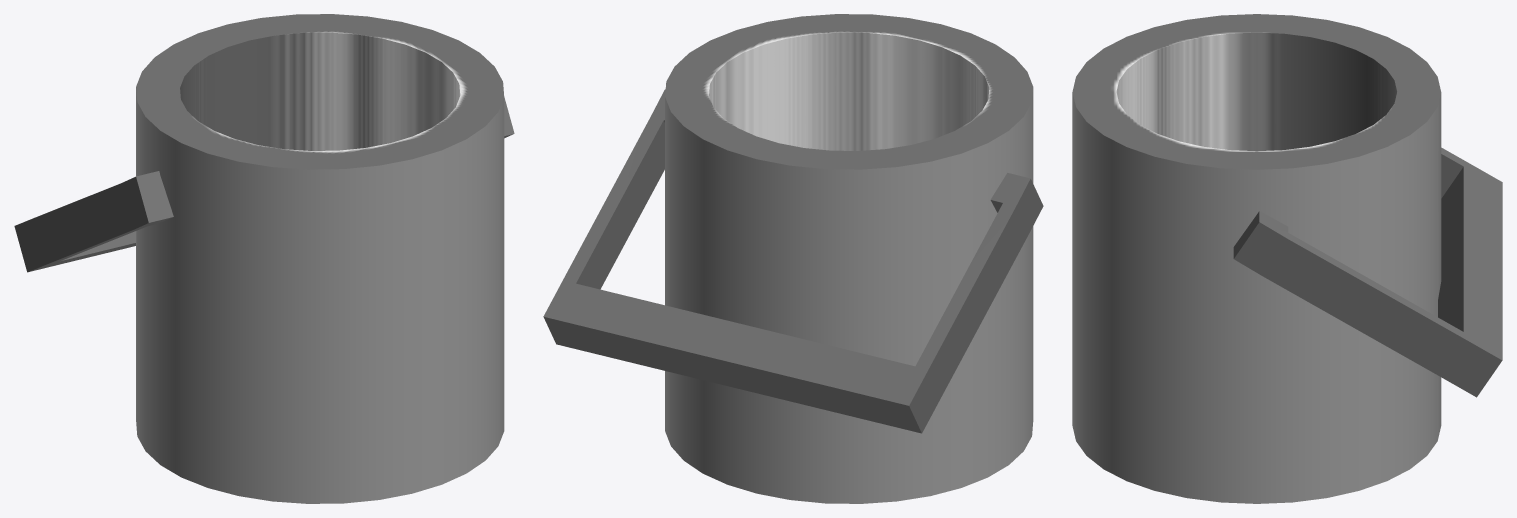
The model's file is Paint_Can.fbx.
3 renders of one model, left to right at view 1: azimuth 30°, elevation 25°; view 2: azimuth 150°, elevation 25°; view 3: azimuth 270°, elevation 25°, orthographic.
Visible parts, largest first — view 1: Can, Handle; view 2: Can, Handle; view 3: Can, Handle.
Boxes of the visible parts, x1,y1,x2,y2 form: Can: [136, 14, 504, 503]; Handle: [14, 97, 514, 272]; Can: [665, 14, 1033, 503]; Handle: [543, 89, 1043, 433]; Can: [1072, 14, 1441, 503]; Handle: [1233, 147, 1502, 397].
Size of the model in its own units: 322 by 281 by 328.
Materials: 1 (1 with a texture image).
